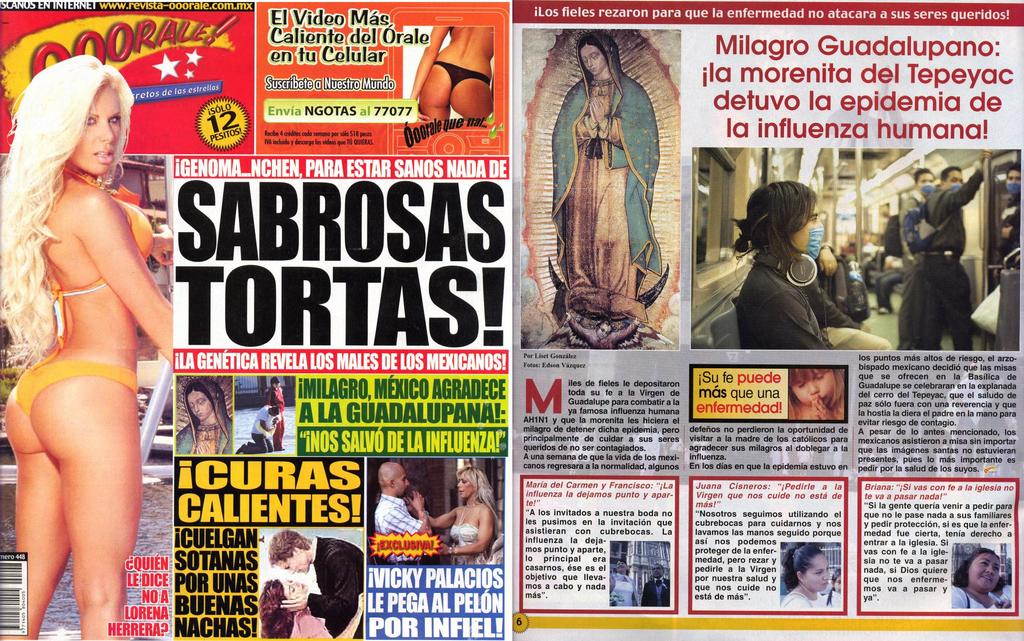Person: (919, 156, 996, 347), (271, 529, 364, 641), (408, 27, 495, 124), (895, 168, 932, 349), (372, 463, 431, 563), (820, 570, 841, 607)
